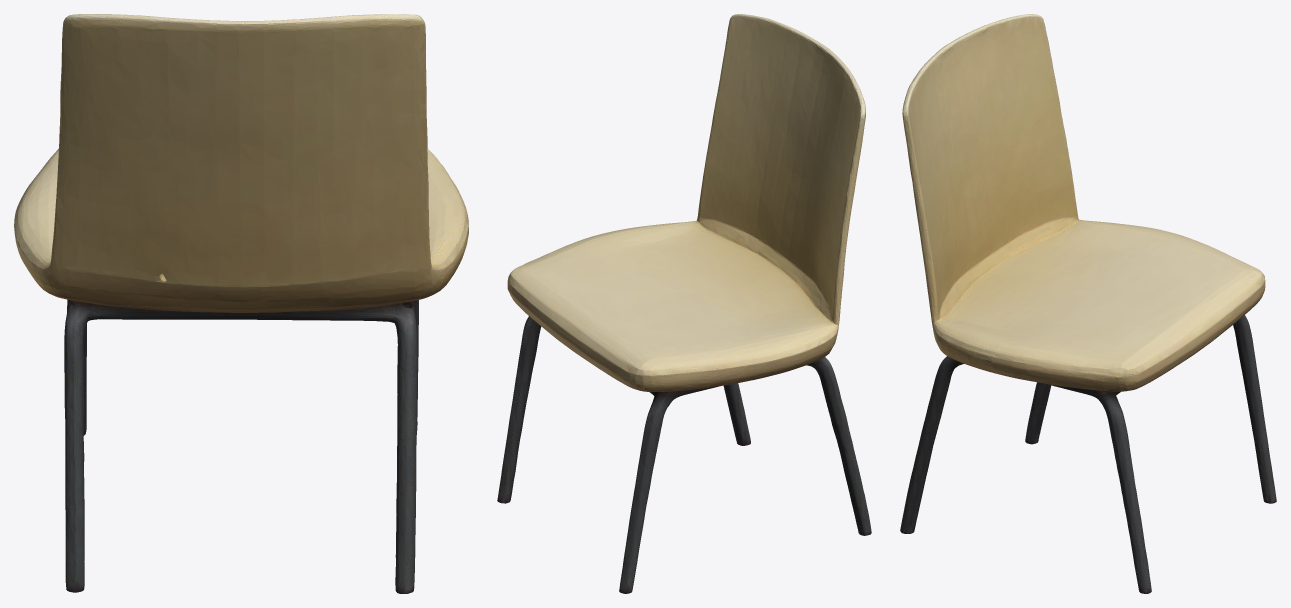
File: light-colored_wooden_chair_partially_visible_behind_foreground_table_(center-right)_000.glb
3 renders of one model, left to right at view 1: azimuth 30°, elevation 25°; view 2: azimuth 150°, elevation 25°; view 3: azimuth 270°, elevation 25°, orthographic. The views are drawn at different scales.
Visible parts, largest first — view 1: phase2_final_light-colored_wooden_chair_partially_visible_be; view 2: phase2_final_light-colored_wooden_chair_partially_visible_be; view 3: phase2_final_light-colored_wooden_chair_partially_visible_be.
Part boxes in pixels (<box>): phase2_final_light-colored_wooden_chair_partially_visible_be: <box>14,14,468,593</box>; phase2_final_light-colored_wooden_chair_partially_visible_be: <box>497,14,871,593</box>; phase2_final_light-colored_wooden_chair_partially_visible_be: <box>900,14,1276,593</box>.
Bounding box in the file's own units: 0.3691 × 0.4854 × 0.3798.
1 material, 1 textured.
